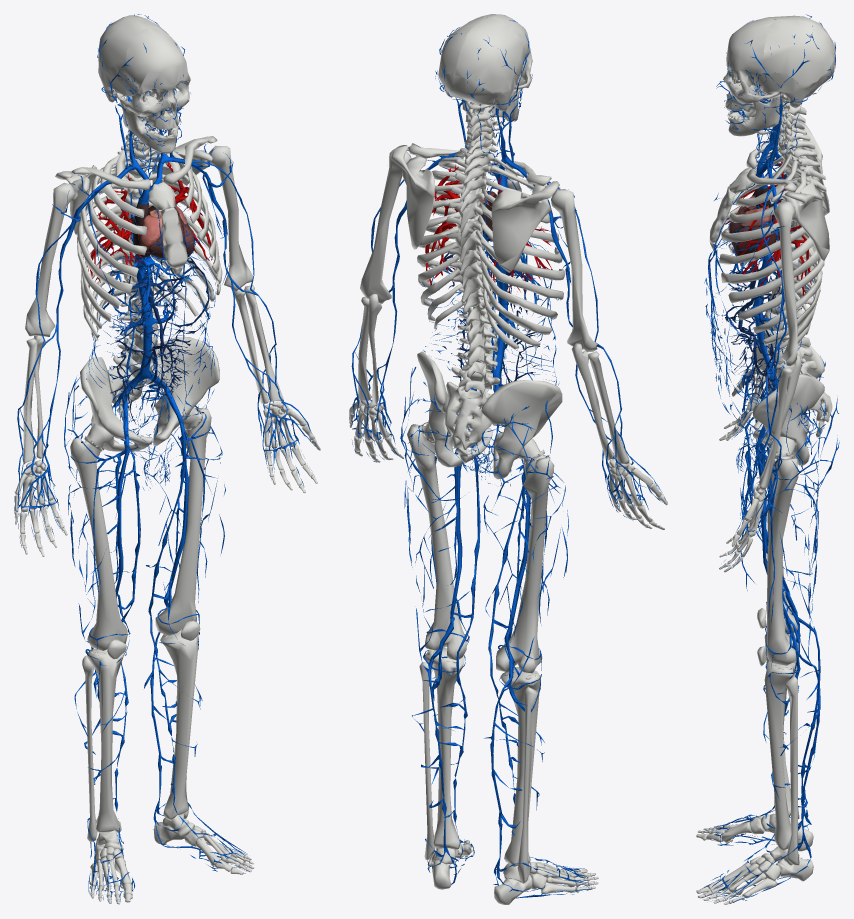
File: veins.glb
The picture shows the model from 3 angles, left to right: view 1: azimuth 30°, elevation 25°; view 2: azimuth 150°, elevation 25°; view 3: azimuth 270°, elevation 25°; orthographic projection. The views are drawn at different scales.
Visible parts, largest first — view 1: Right_femur, Left_femur, Left_hip_bone__os_coxa_or_innominate_bone_, Left_tibia, Frontal_bone, Right_tibia, Right_hip_bone__os_coxa_or_innominate_bone_, Right_humerus, Right_great_saphenous_vein, Left_great_saphenous_vein, Left_humerus, Right_parietal_bone (+25 smaller); view 2: Right_femur, Left_femur, Right_hip_bone__os_coxa_or_innominate_bone_, Right_parietal_bone, Right_scapula, Left_tibia, Right_great_saphenous_vein, Left_great_saphenous_vein, Right_tibia, Left_hip_bone__os_coxa_or_innominate_bone_, Right_humerus, Left_scapula (+20 smaller); view 3: Left_femur, Left_parietal_bone, Left_tibia, Left_hip_bone__os_coxa_or_innominate_bone_, Left_humerus, Frontal_bone, Left_scapula, Left_great_saphenous_vein, Left_fibula, Mandible, Left_temporal_bone, Right_great_saphenous_vein (+35 smaller).
Boxes of the visible parts, x1,y1,x2,y2 form: Right_femur: (70,424,127,650); Left_femur: (155,407,211,635); Left_hip_bone__os_coxa_or_innominate_bone_: (153,337,219,446); Left_tibia: (160,629,198,820); Frontal_bone: (124,27,190,93); Right_tibia: (87,649,125,833); Right_hip_bone__os_coxa_or_innominate_bone_: (80,357,152,451); Right_humerus: (25,182,75,336); Right_great_saphenous_vein: (64,377,140,847); Left_great_saphenous_vein: (144,388,225,831); Left_humerus: (208,145,253,291); Right_parietal_bone: (98,15,146,77); Right_femur: (496,438,554,673); Left_femur: (407,422,466,660); Right_hip_bone__os_coxa_or_innominate_bone_: (481,380,562,479); Right_parietal_bone: (456,17,524,94); Right_scapula: (491,181,559,272); Left_tibia: (424,648,464,849); Right_great_saphenous_vein: (481,399,568,857); Left_great_saphenous_vein: (400,367,480,857); Right_tibia: (500,667,540,866); Left_hip_bone__os_coxa_or_innominate_bone_: (417,351,492,467); Right_humerus: (551,189,597,351); Left_scapula: (391,145,434,249); Left_femur: (766,436,798,665); Left_parietal_bone: (762,19,835,89); Left_tibia: (764,661,795,850); Left_hip_bone__os_coxa_or_innominate_bone_: (752,373,824,465); Left_humerus: (774,201,797,365); Frontal_bone: (726,17,773,79); Left_scapula: (771,182,829,260); Left_great_saphenous_vein: (740,402,839,853); Left_fibula: (784,676,799,865); Mandible: (727,93,780,136); Left_temporal_bone: (752,72,810,108); Right_great_saphenous_vein: (740,356,838,828).
Bounding box in the file's own units: 0.6476 × 1.7 × 0.2598.
347 materials, 346 textured.
